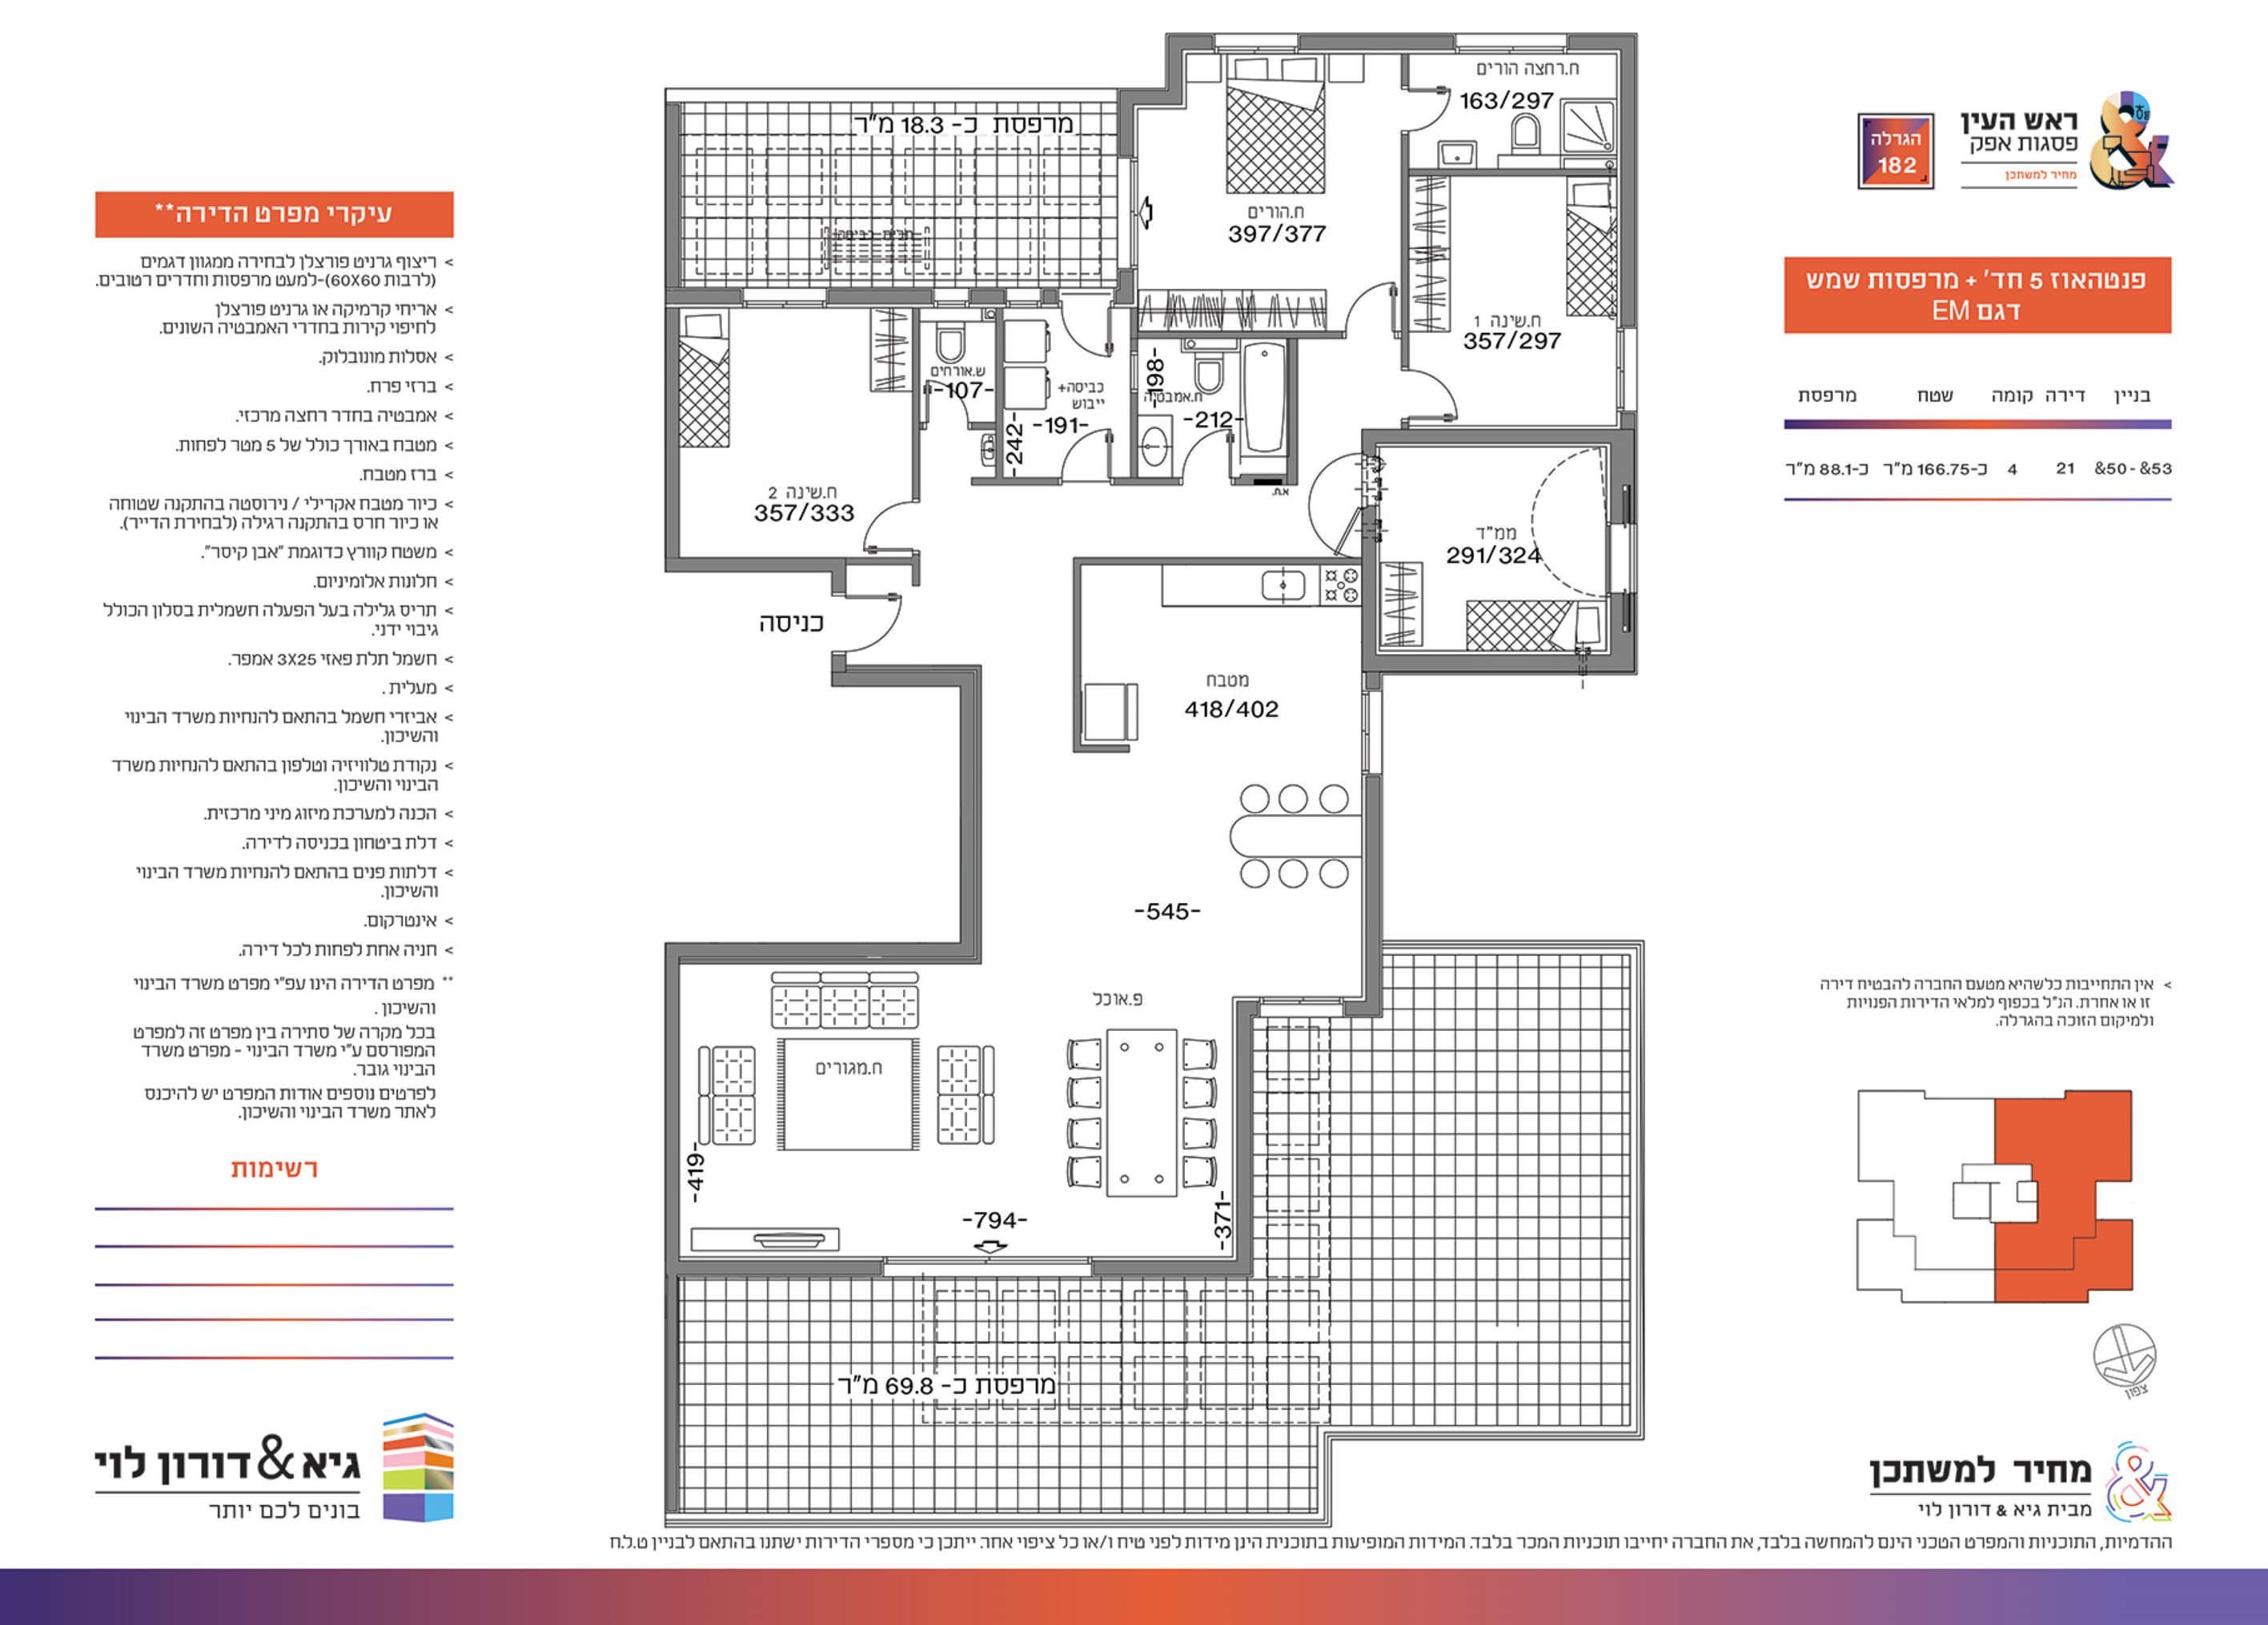door: (842, 489, 907, 554), (853, 593, 918, 658), (1407, 361, 1470, 427)
wall: (666, 937, 679, 1523), (962, 665, 981, 957), (666, 304, 679, 575)
window: (881, 1252, 1094, 1268), (1357, 691, 1373, 772), (1127, 157, 1138, 267), (1213, 44, 1299, 56)
